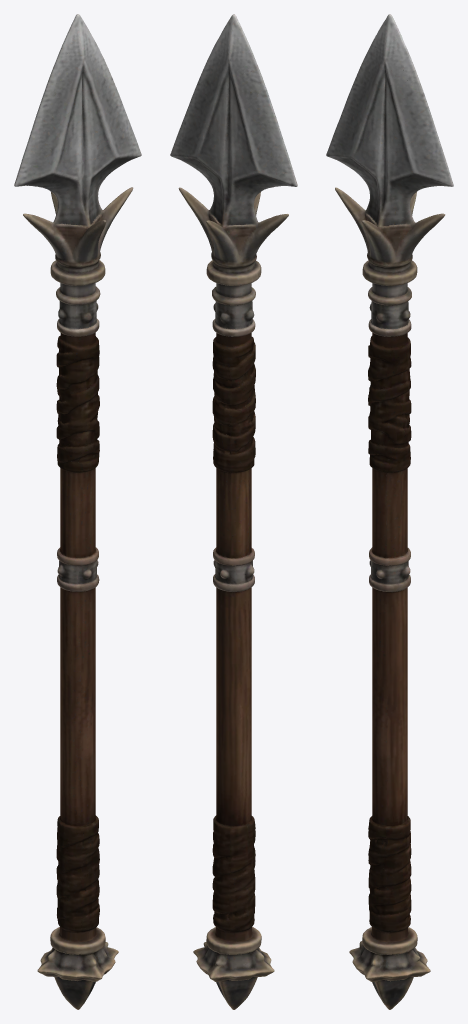
File: spearWeapon.glb
The picture shows the model from 3 angles, left to right: view 1: azimuth 30°, elevation 25°; view 2: azimuth 150°, elevation 25°; view 3: azimuth 330°, elevation 25°; orthographic projection.
Parts seen in each view (by area): view 1: world; view 2: world; view 3: world.
Boxes of the visible parts, <box> form: world: <box>14,14,141,1009</box>; world: <box>170,14,297,1009</box>; world: <box>326,14,453,1009</box>.
Bounding box in the file's own units: 0.1335 × 1 × 0.1002.
Materials: 1 (1 with a texture image).
